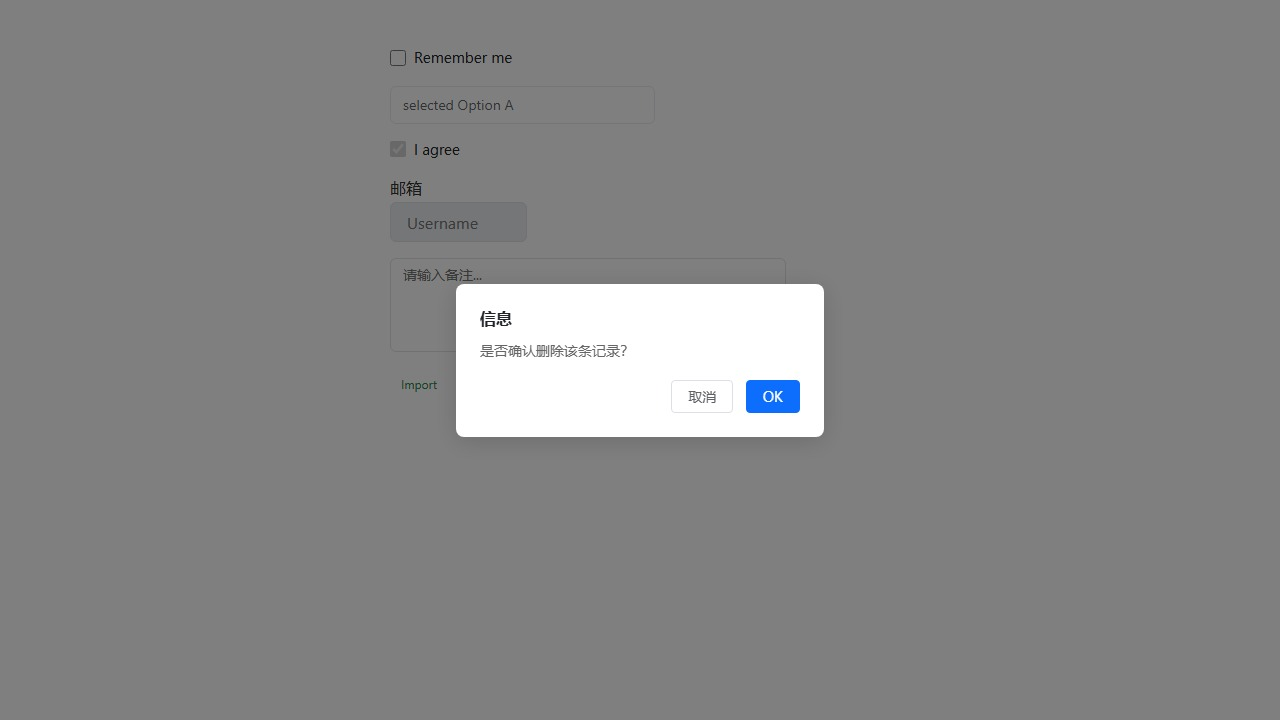button: (671, 380, 733, 412), (746, 380, 800, 412), (390, 373, 448, 395)
checkbox: (390, 141, 406, 157), (390, 50, 406, 65)
icon: (414, 48, 512, 67), (414, 139, 460, 158)
input: (390, 202, 527, 242)
modal: (0, 0, 1280, 720)
radio: (390, 48, 512, 67), (390, 139, 460, 158)
select: (390, 86, 655, 124)
textarea: (390, 258, 786, 352)
